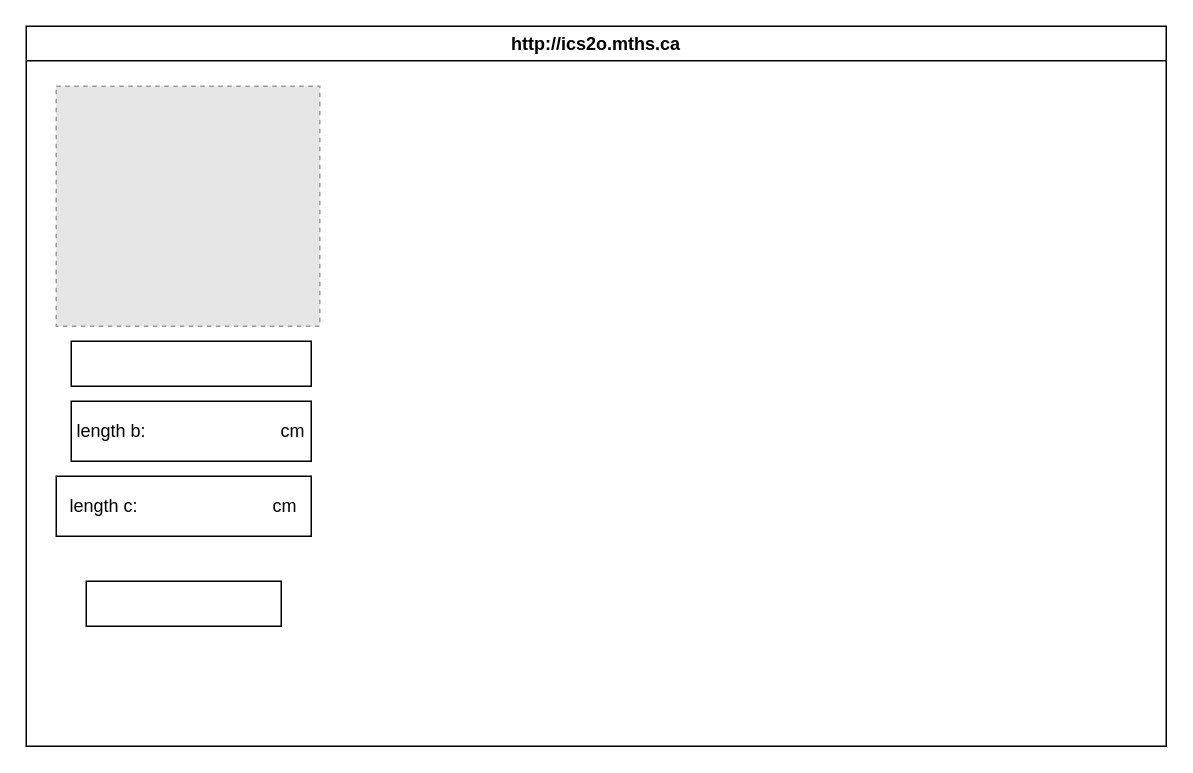
Image size: 1193x773. Some labels were removed from this diagram. Grey dashed boxes stand in for pictures. Each missing label, with the box of its shape:
length a: cm: (70, 340, 311, 386)
what is the triangle?: (85, 580, 281, 626)
